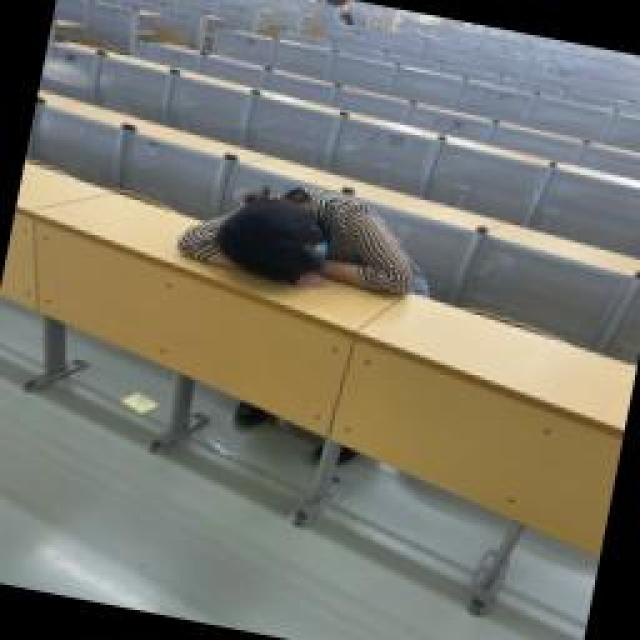sleep: (170, 165, 435, 310)
